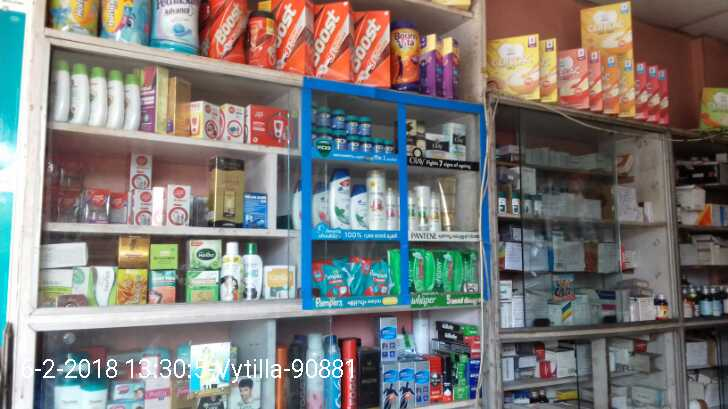vicks: (309, 103, 395, 155)
